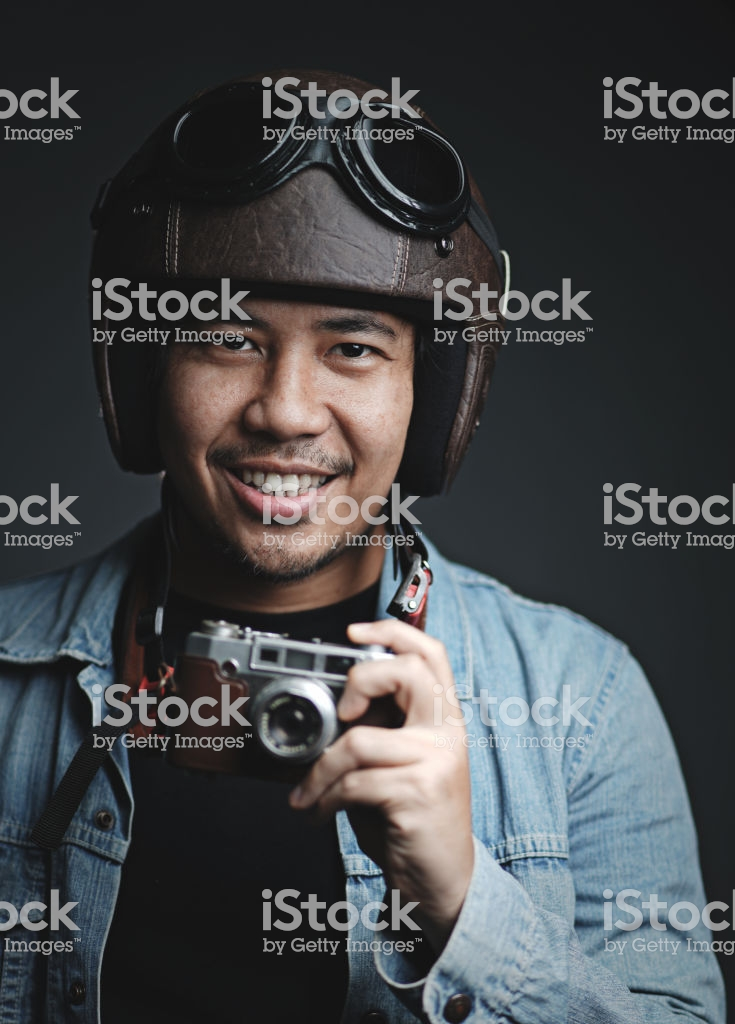helmet: (87, 107, 506, 468)
